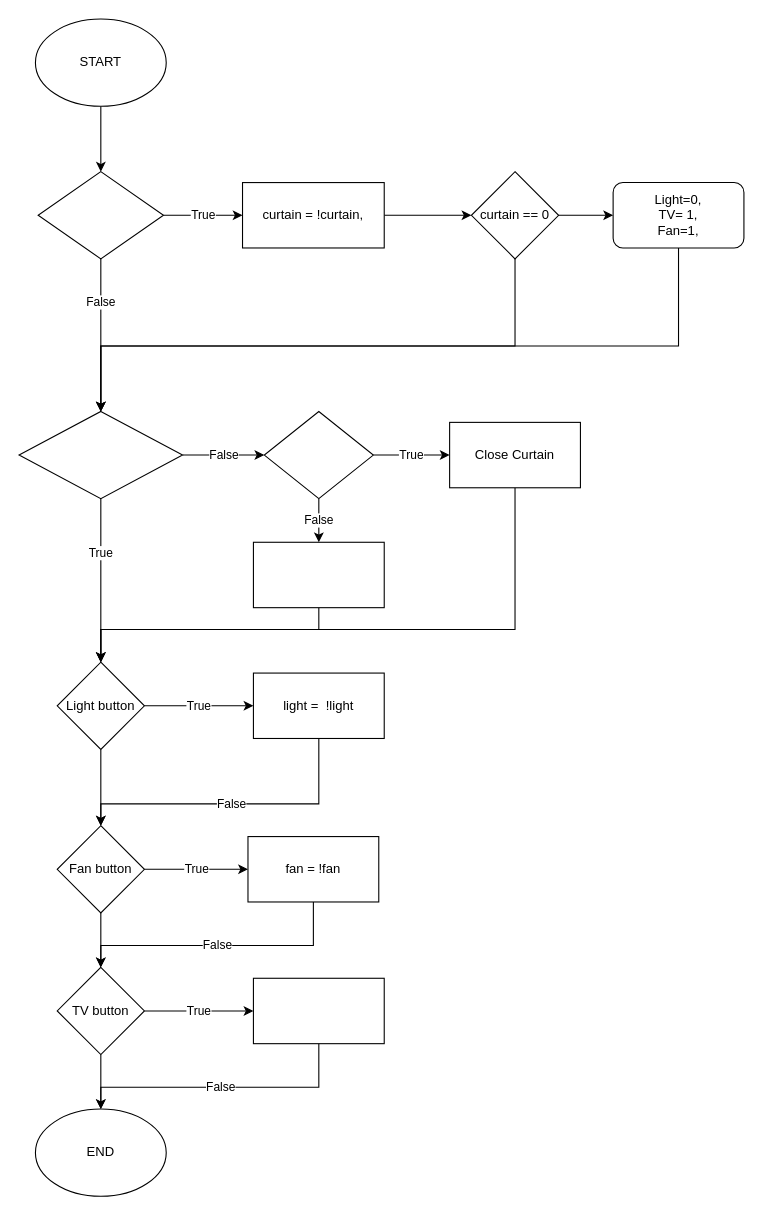
This 763x1215 diagram has some shape labels left out. Each missing label, with the box of its shape:
auto button: (37, 171, 164, 259)
curtain ==1: (263, 410, 373, 499)
isProcessingCurrtain: (18, 410, 183, 499)
Open Curtain: (252, 541, 384, 608)
TV = !TV: (252, 977, 384, 1044)
